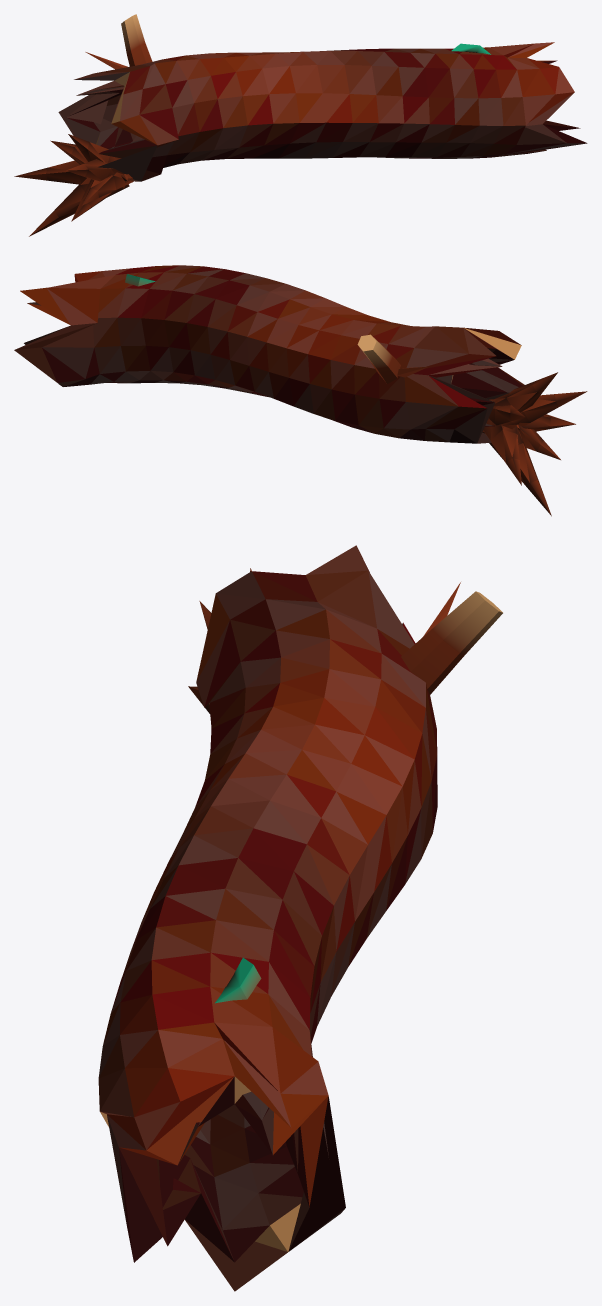
File: pohon_tumbang_uprooted_redwood_767059.glb
The picture shows the model from 3 angles, top to bottom: view 1: azimuth 30°, elevation 25°; view 2: azimuth 150°, elevation 25°; view 3: azimuth 270°, elevation 25°; orthographic projection. The views are drawn at different scales.
Visible parts, largest first — view 1: Tunggul_Akar_Tumbang; view 2: Tunggul_Akar_Tumbang; view 3: Tunggul_Akar_Tumbang.
Part boxes in pixels (<box>): Tunggul_Akar_Tumbang: <box>14,14,587,236</box>; Tunggul_Akar_Tumbang: <box>14,265,587,516</box>; Tunggul_Akar_Tumbang: <box>98,545,502,1291</box>.
Size of the model in its own units: 4.93 by 1.62 by 1.68.
